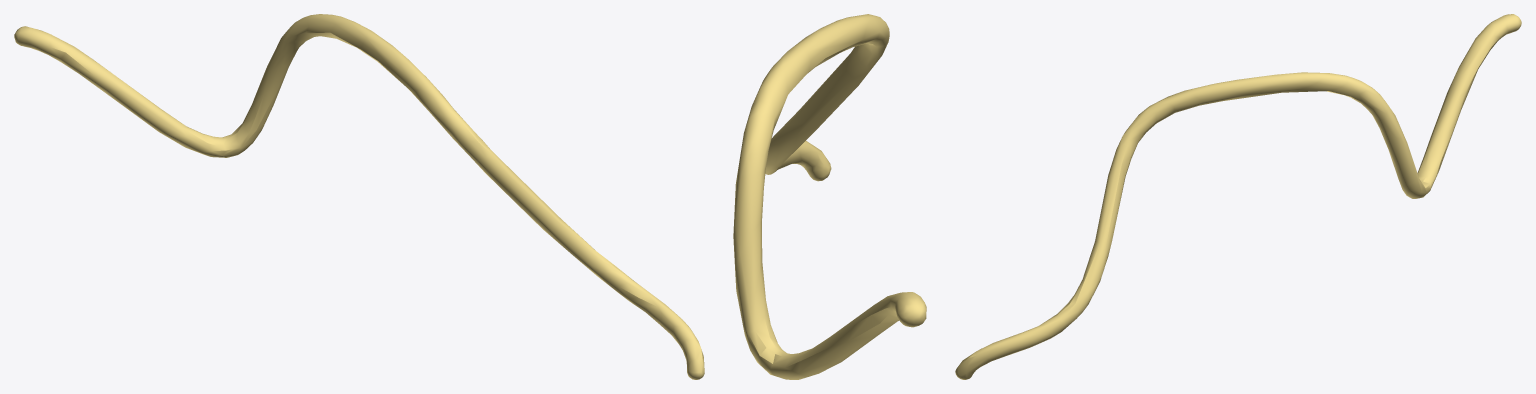
The model's file is fma52676_fj4006.glb.
3 renders of one model, left to right at view 1: azimuth 30°, elevation 25°; view 2: azimuth 150°, elevation 25°; view 3: azimuth 270°, elevation 25°, orthographic. The views are drawn at different scales.
Parts seen in each view (by area): view 1: FMA52676_FJ4006; view 2: FMA52676_FJ4006; view 3: FMA52676_FJ4006.
Boxes of the visible parts, x1,y1,x2,y2 form: FMA52676_FJ4006: (14,14,704,379); FMA52676_FJ4006: (733,14,926,379); FMA52676_FJ4006: (955,14,1521,379).
Bounding box in the file's own units: 0.0156 × 0.00992 × 0.0216.
